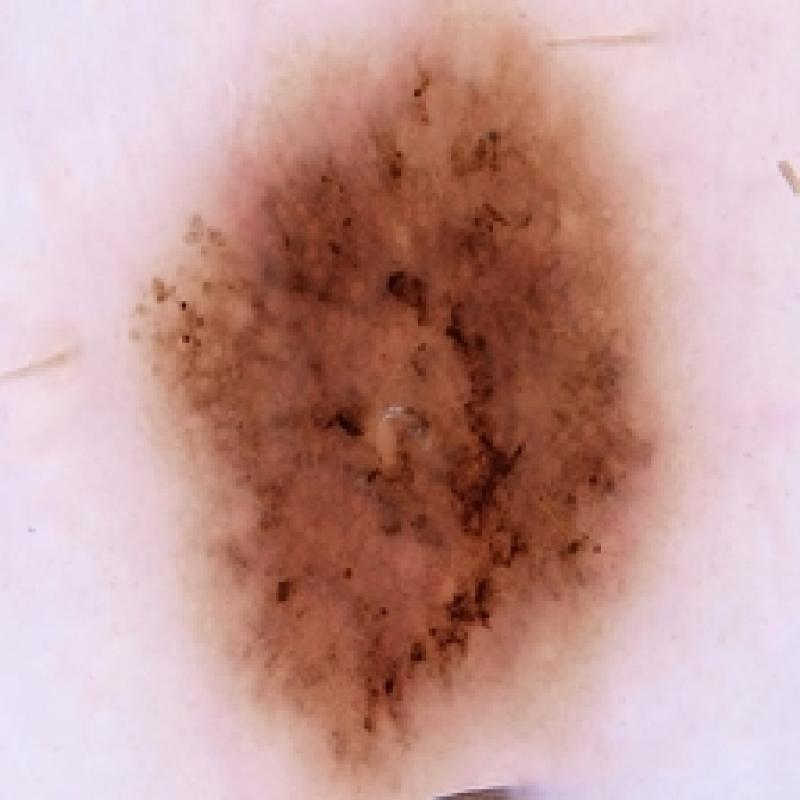benign: (109, 3, 720, 800)
